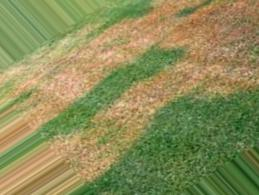patch: (84, 101, 139, 166), (148, 45, 190, 120), (196, 24, 234, 82), (89, 31, 117, 95), (40, 69, 75, 110), (141, 17, 183, 39)
